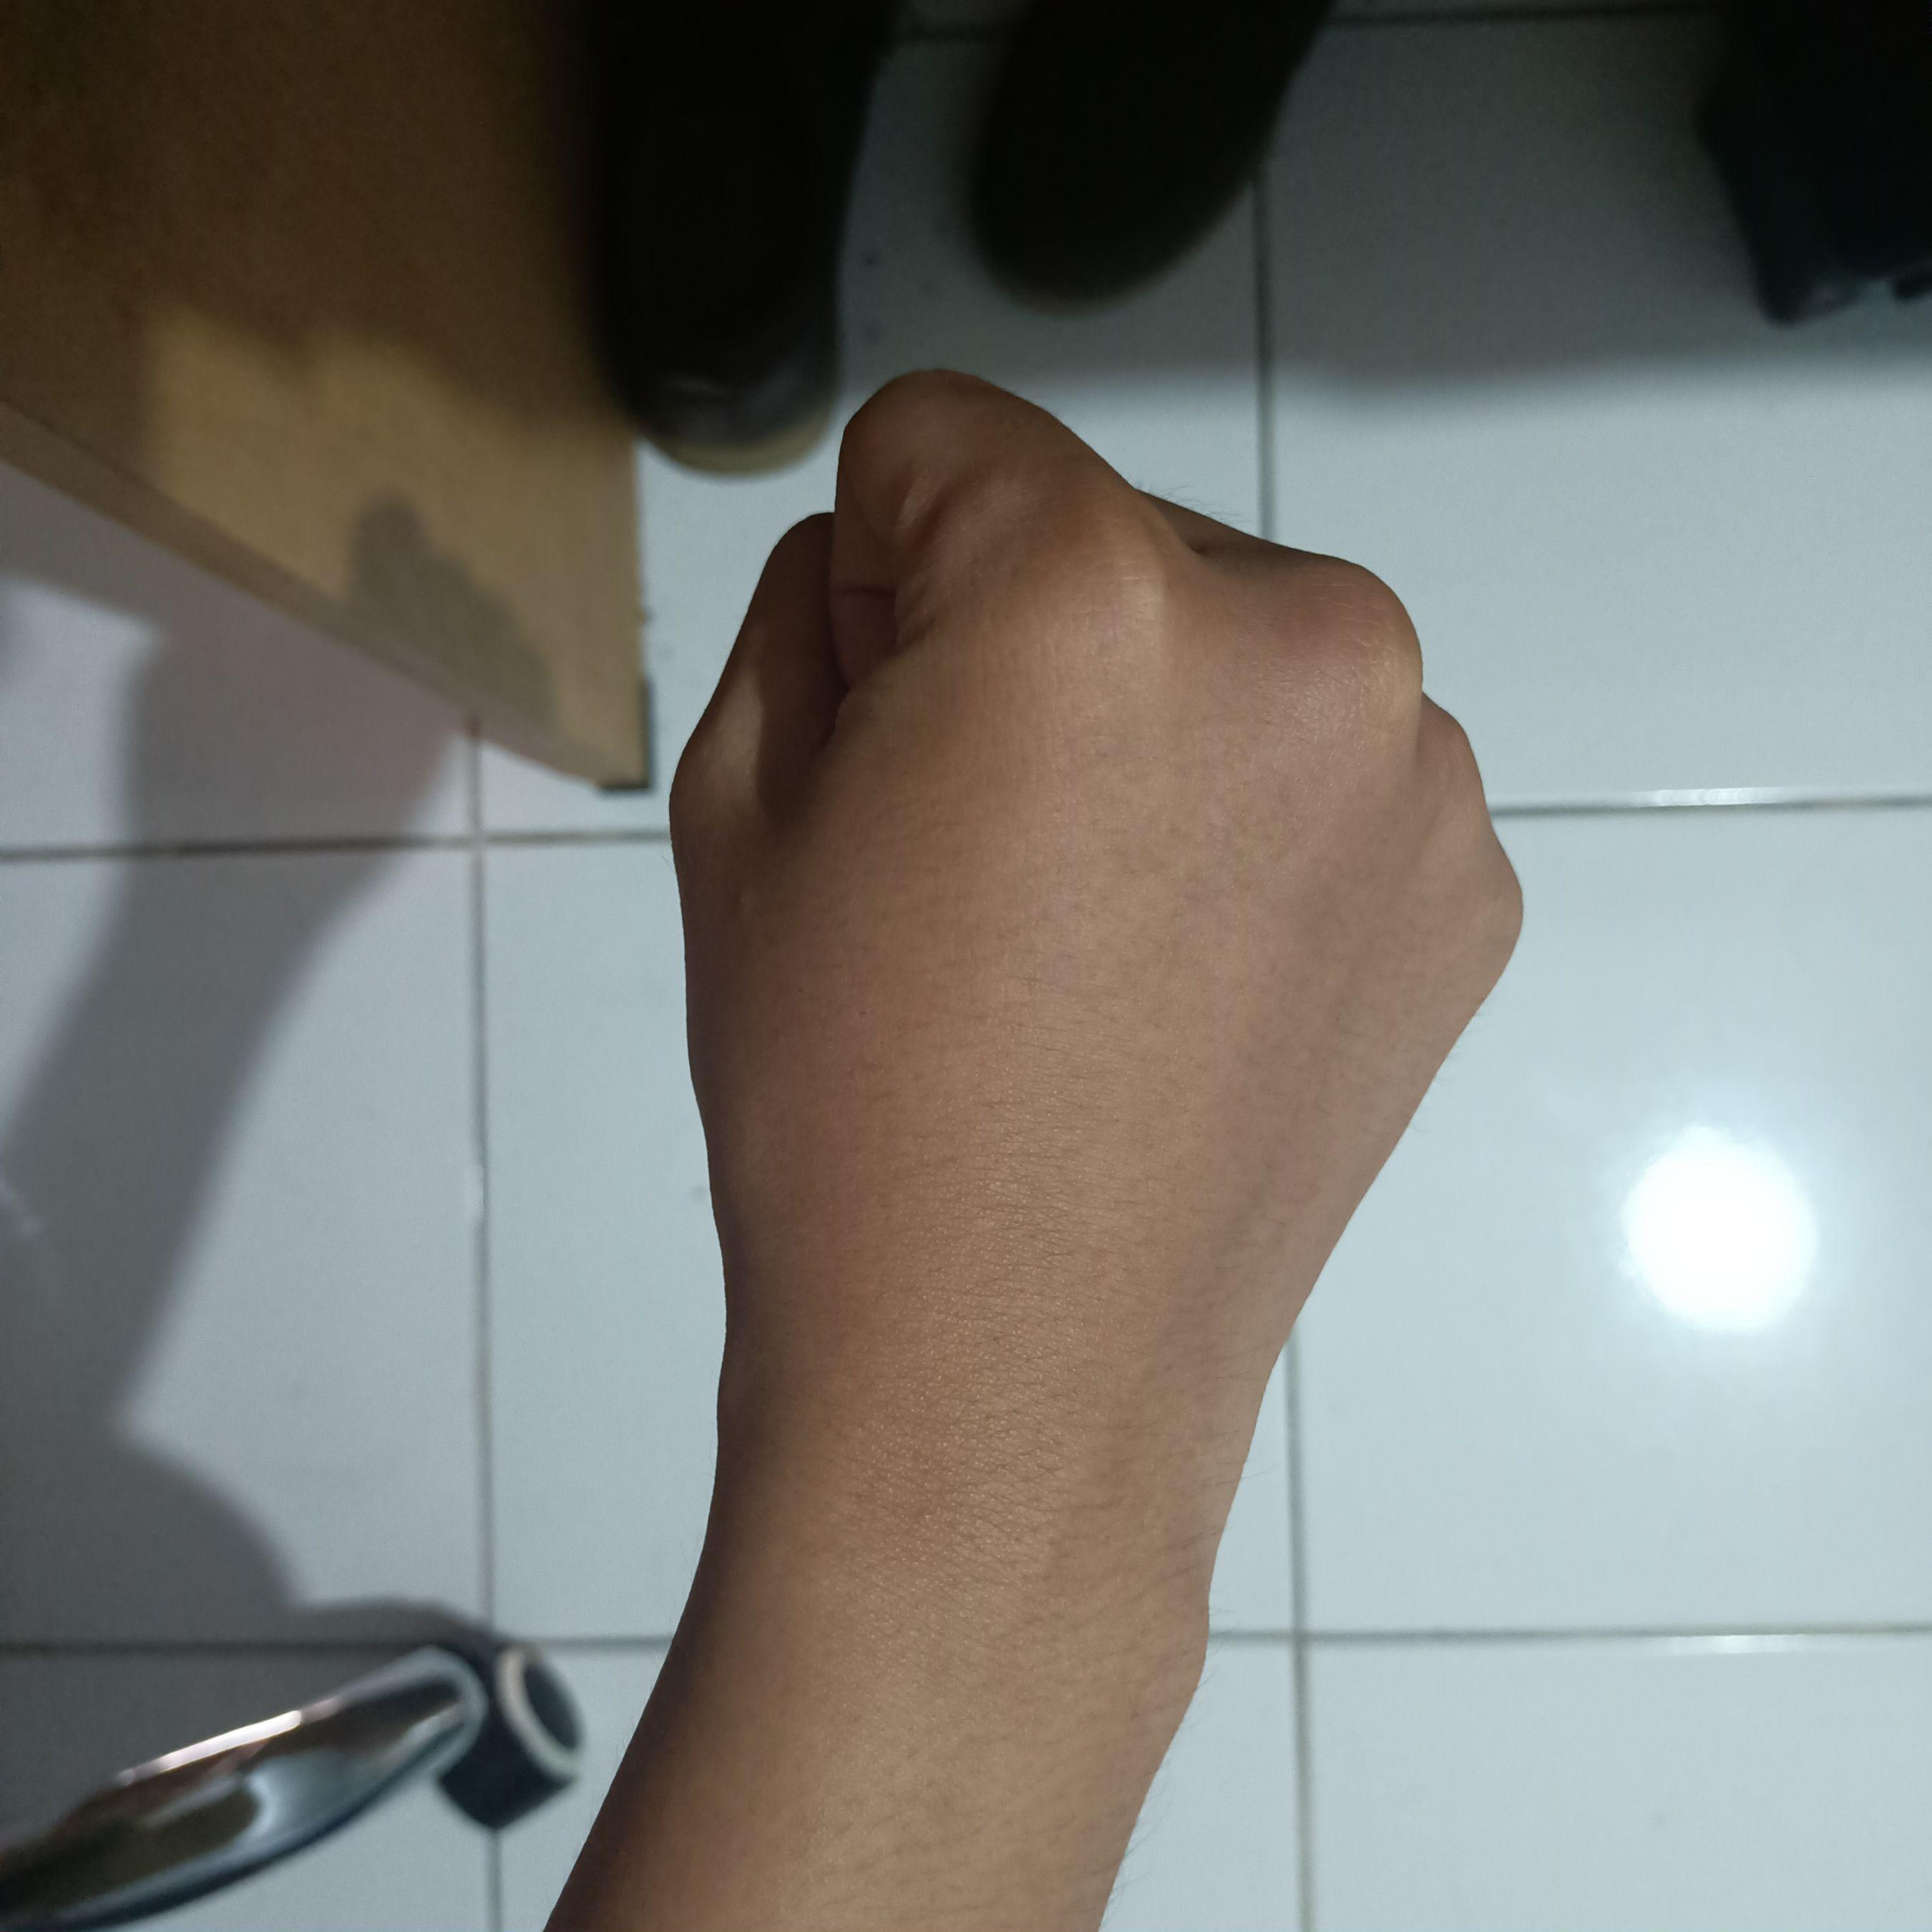rock: (669, 372, 1536, 1672)
